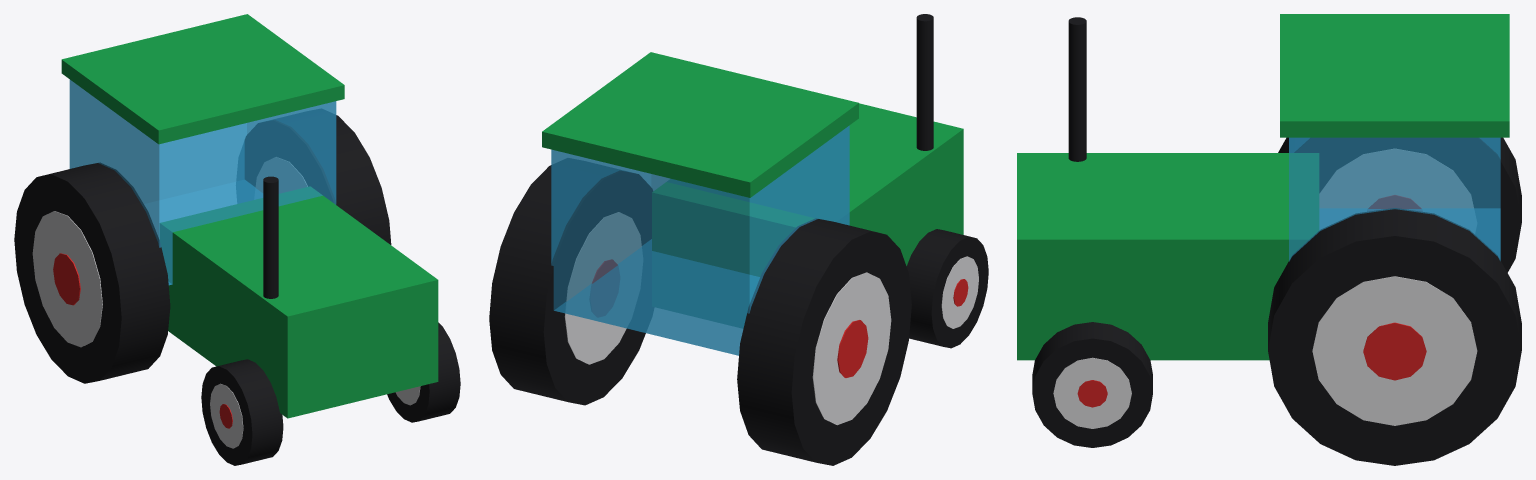
The model's file is tractor.glb.
The picture shows the model from 3 angles, left to right: view 1: azimuth 30°, elevation 25°; view 2: azimuth 150°, elevation 25°; view 3: azimuth 270°, elevation 25°; orthographic projection. The views are drawn at different scales.
Bounding box in the file's own units: 0.7384 × 0.7186 × 1.
